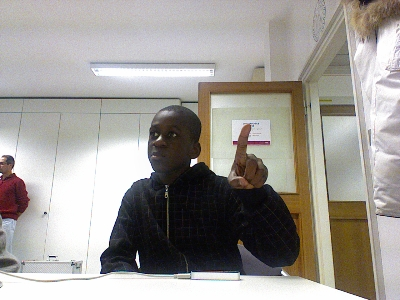食指: (226, 124, 268, 190)
